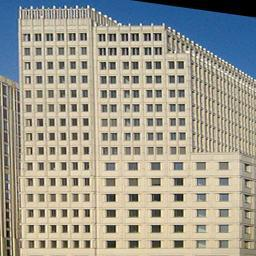building: (16, 0, 196, 256)
